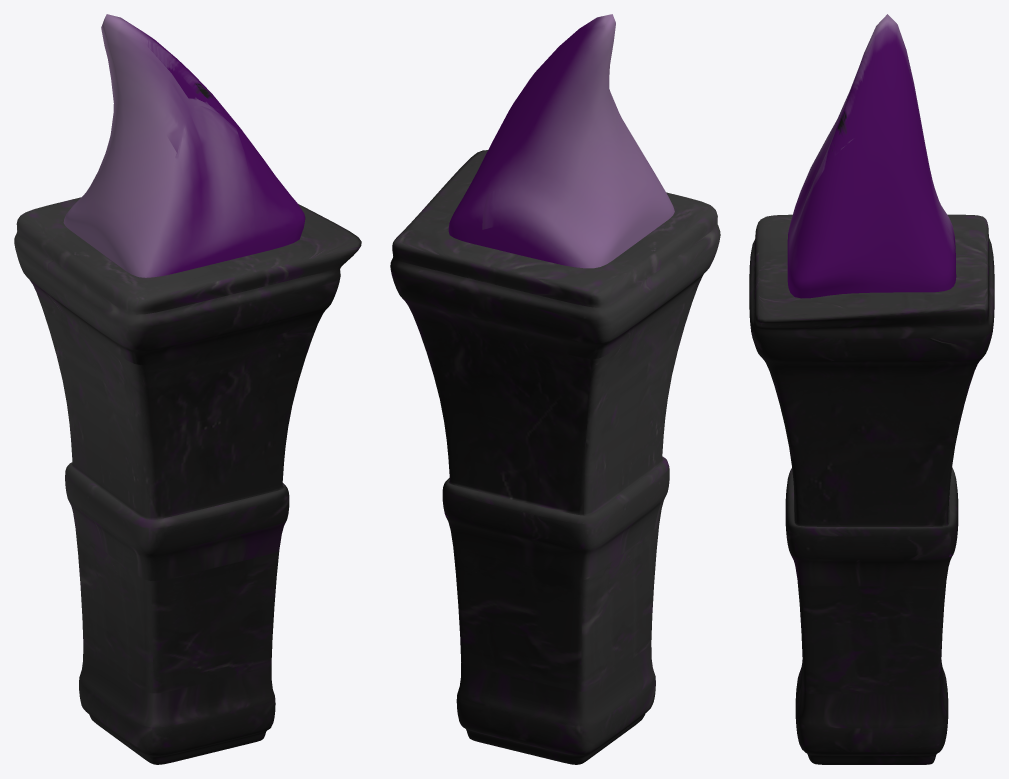
File: torch.glb
3 views of the same model, side by side, from view 1: azimuth 30°, elevation 25°; view 2: azimuth 150°, elevation 25°; view 3: azimuth 270°, elevation 25° (orthographic). The views are drawn at different scales.
Visible parts, largest first — view 1: polySurface43; view 2: polySurface43; view 3: polySurface43.
Boxes of the visible parts, box(x1,y1,x2,y2) form: polySurface43: box(14, 14, 361, 764); polySurface43: box(390, 14, 720, 764); polySurface43: box(749, 14, 994, 764).
Size of the model in its own units: 0.2263 by 0.6529 by 0.2084.
1 material, 1 textured.
